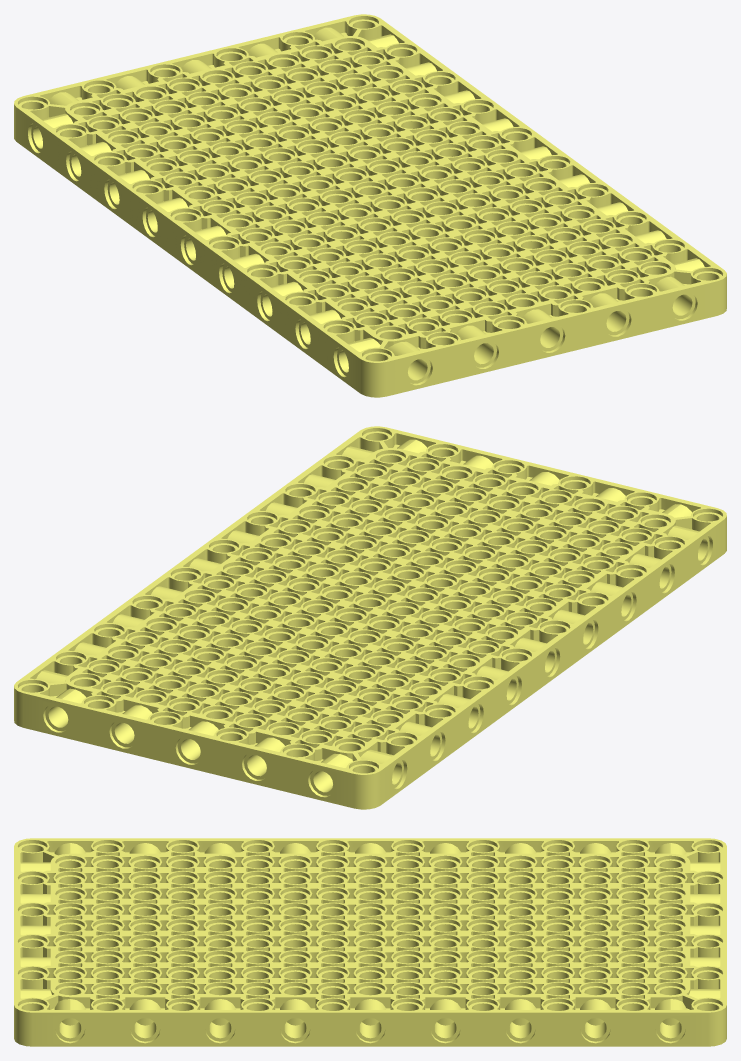
3 views of the same model, one above another, from view 1: azimuth 30°, elevation 25°; view 2: azimuth 150°, elevation 25°; view 3: azimuth 270°, elevation 25° (orthographic).
Parts seen in each view (by area): view 1: 39369.dat; view 2: 39369.dat; view 3: 39369.dat.
Boxes of the visible parts, x1,y1,x2,y2 form: 39369.dat: [14, 14, 726, 397]; 39369.dat: [14, 426, 726, 809]; 39369.dat: [14, 838, 726, 1046].
Bounding box in the file's own units: 0.088 × 0.008 × 0.152.
